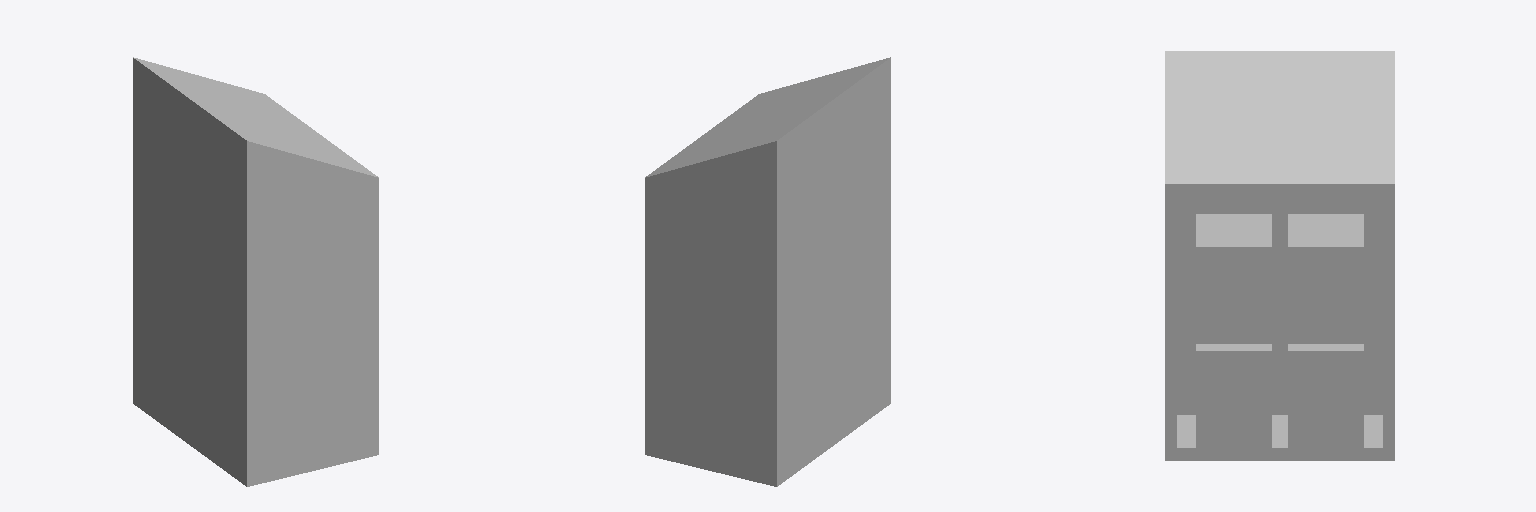
File: cel_prime_battery.obj
The picture shows the model from 3 angles: view 1: azimuth 30°, elevation 25°; view 2: azimuth 150°, elevation 25°; view 3: azimuth 270°, elevation 25°; orthographic projection.
Visible parts, largest first — view 1: Cube.004_Cube.005; view 2: Cube.004_Cube.005; view 3: Cube.004_Cube.005.
Part boxes in pixels (x1,y1,x2,y2): Cube.004_Cube.005: (133,57,378,486); Cube.004_Cube.005: (645,57,890,486); Cube.004_Cube.005: (1165,51,1394,460).
Bounding box in the file's own units: 2 × 5 × 3.